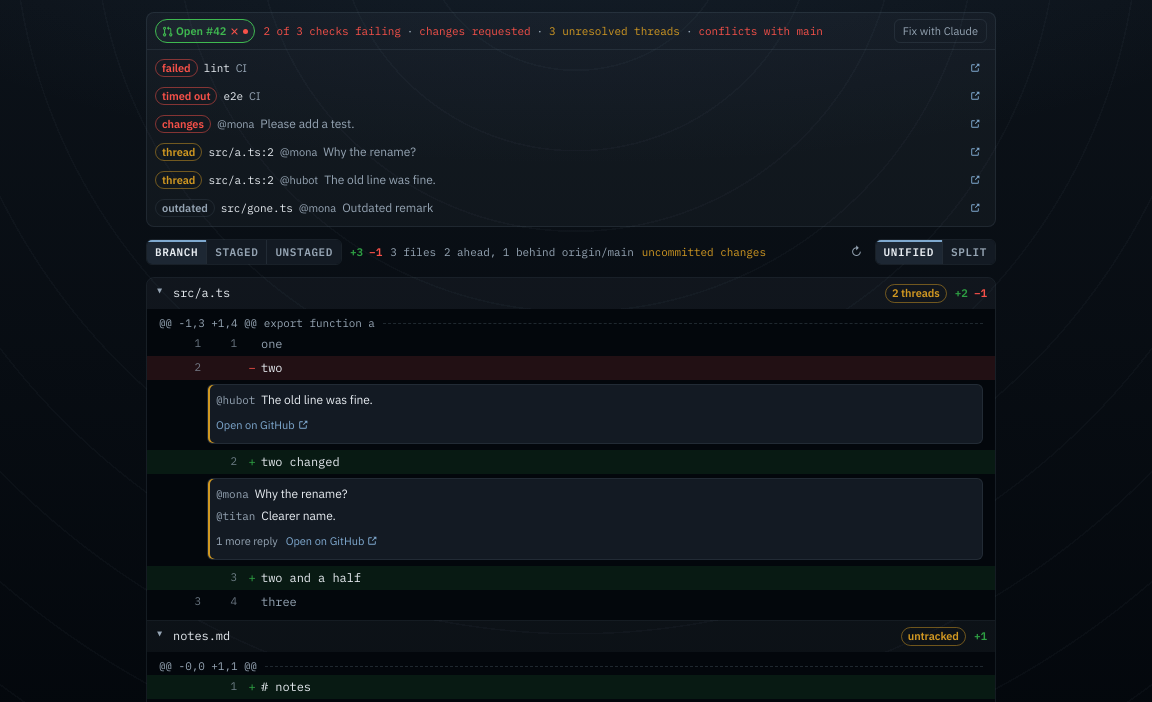
Test: ReviewPanel — the branch’s pull request › hands the fix prompt to the composer and says what it could not include
Click the button "Fix with Claude" at (940, 31), box [894,19,987,43]
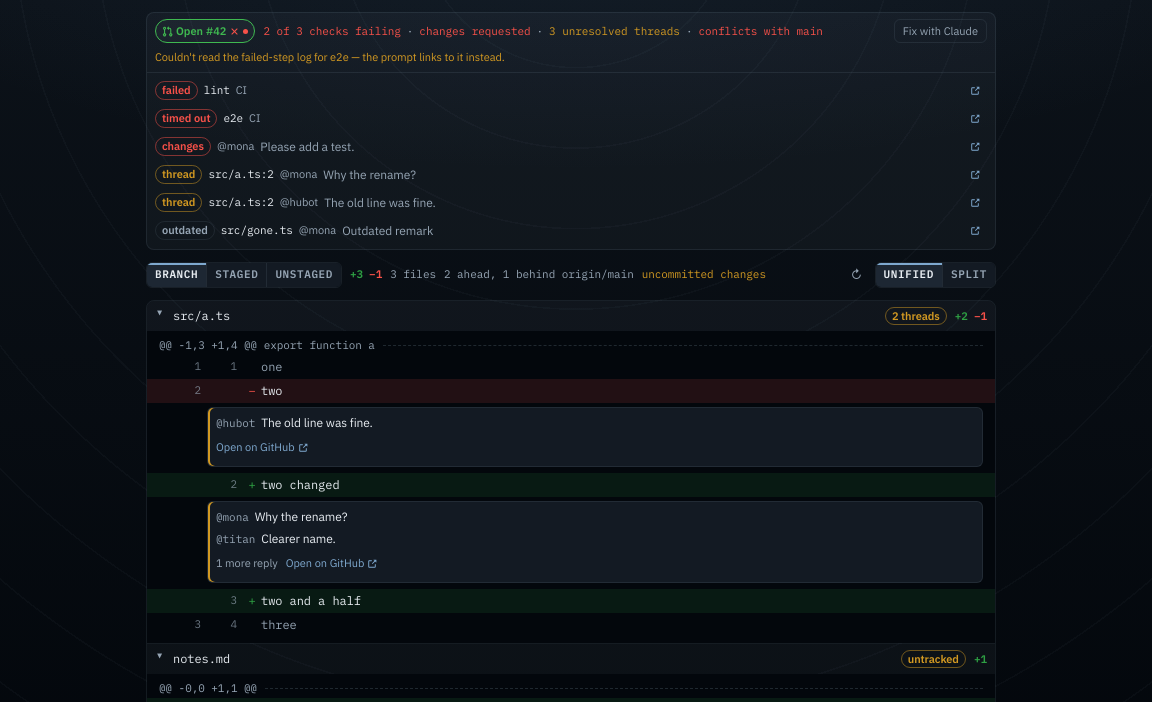
Expected: the text "Couldn't read the failed-step log for e2e — the prompt links to it instead." is shown, [155,50,505,64]
